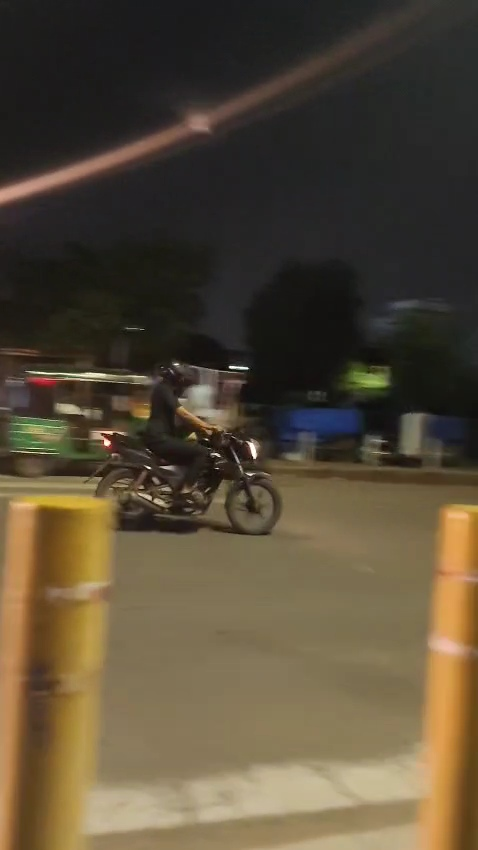BikeWithRider: (84, 359, 283, 534)
Helmet: (156, 359, 198, 393)
